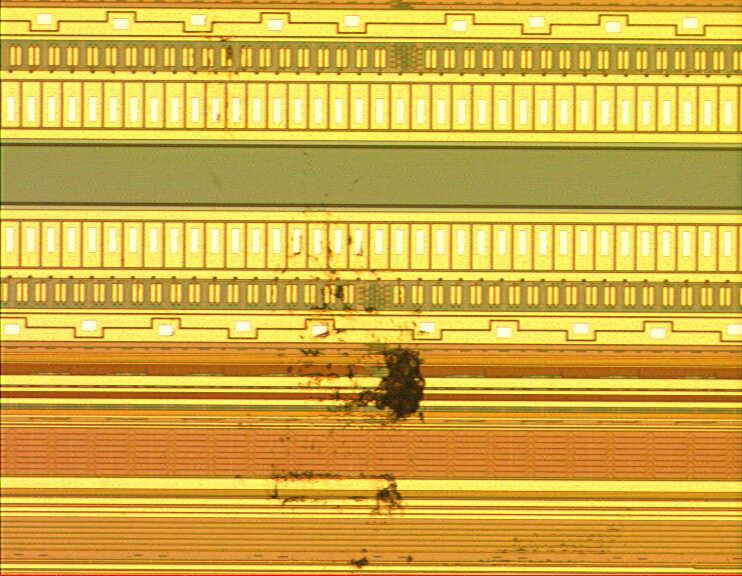PO CONTAMINATION: (207, 29, 633, 575)
